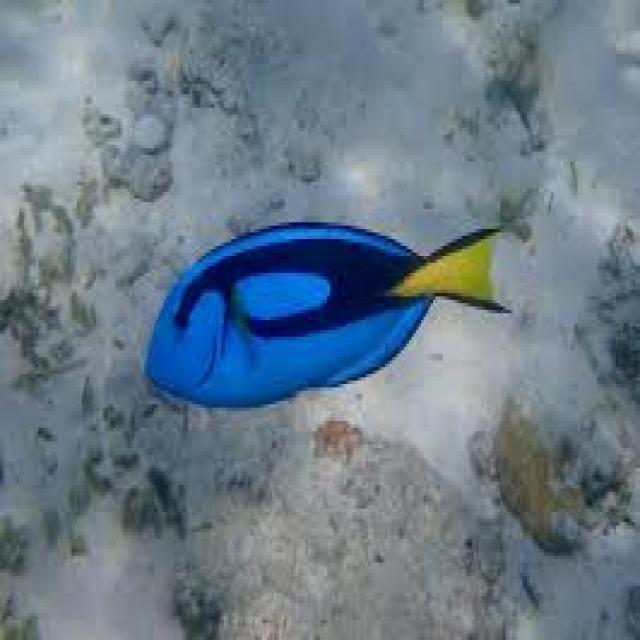TangFish: (142, 218, 513, 414)
